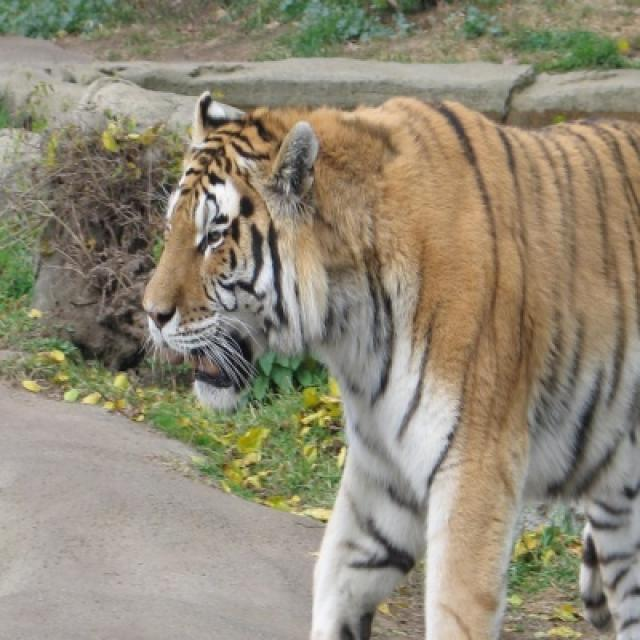Tiger: (137, 85, 638, 638)
